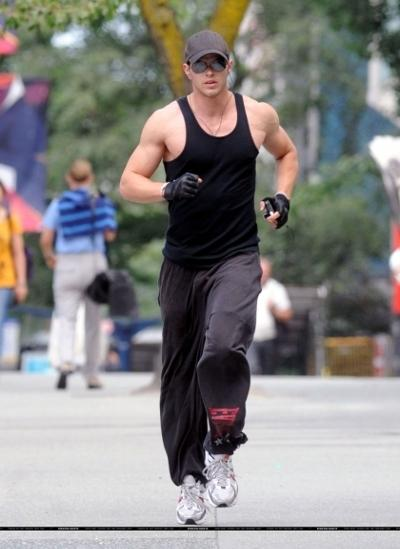person: (119, 31, 302, 526)
